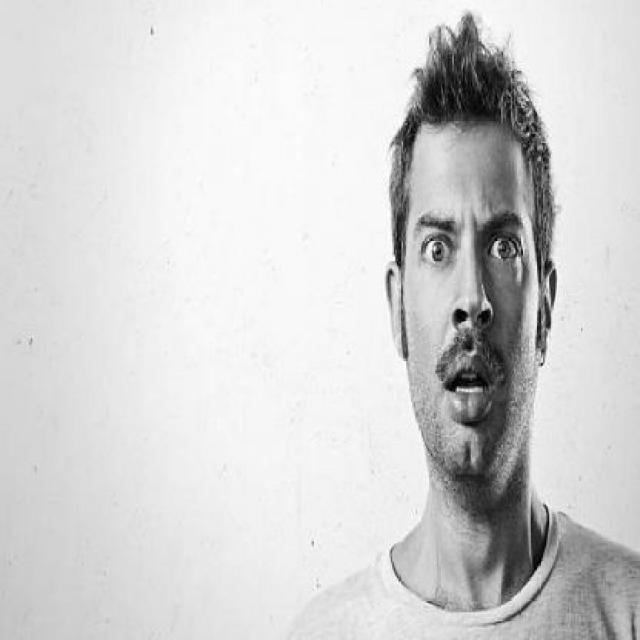fear: (414, 203, 528, 426)
